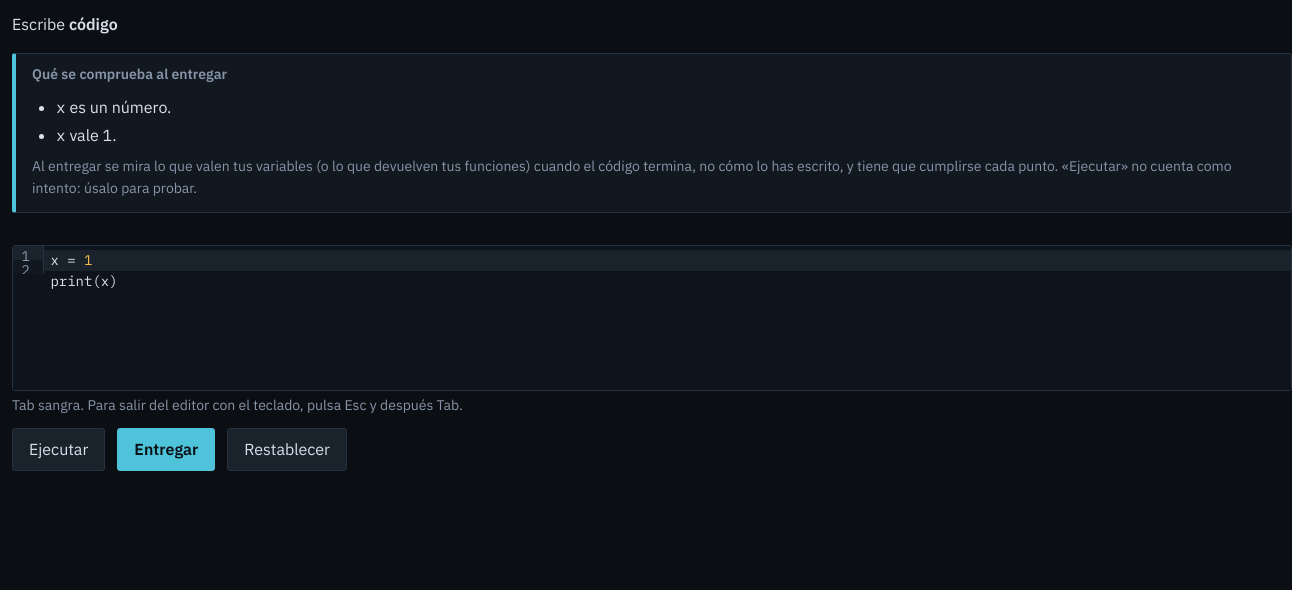
CodigoQuestion: ejecutar y entregar › un resultado con error muestra la traza
This screenshot has width=1292, height=590.
Click the button "Ejecutar" at (59, 450), box [12,428,105,471]
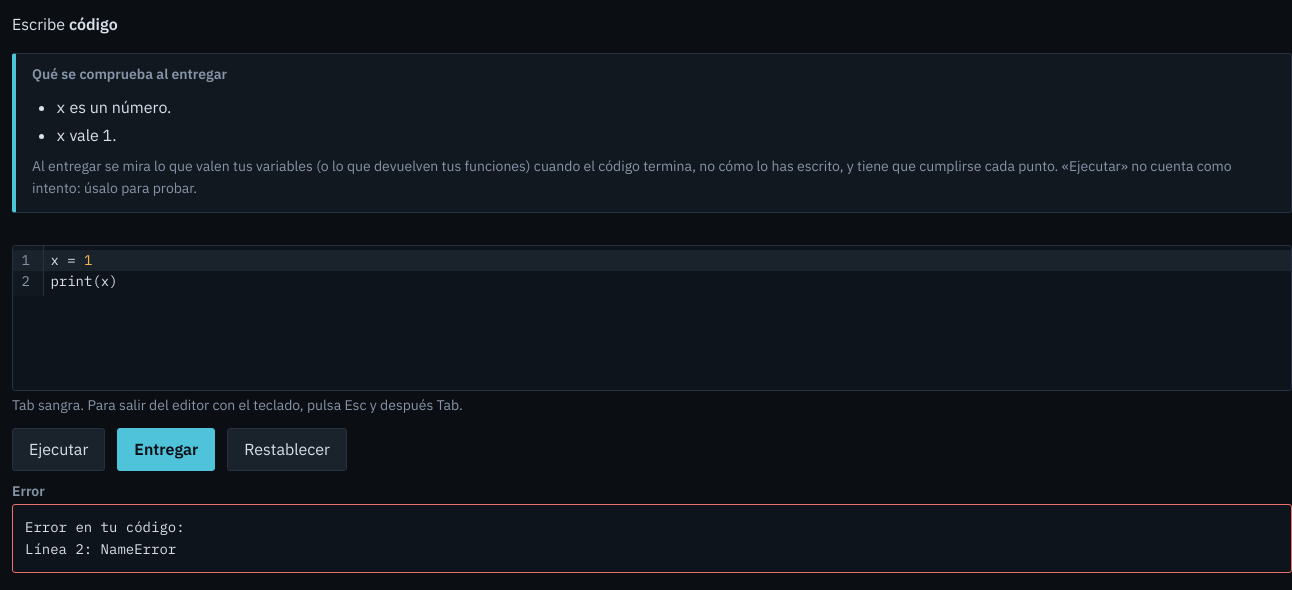
Expected: the text "Error en tu código: Línea 2: NameError" is shown, [12,504,1291,573]
